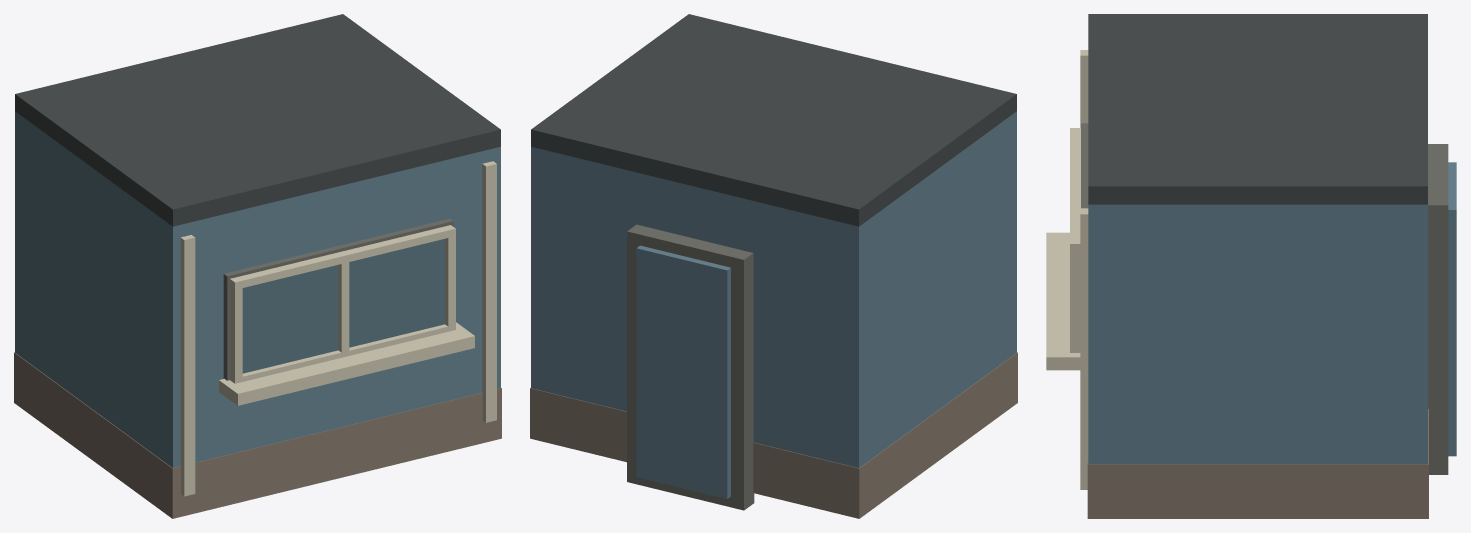
File: kiosk_blue.glb
3 renders of one model, left to right at view 1: azimuth 30°, elevation 25°; view 2: azimuth 150°, elevation 25°; view 3: azimuth 270°, elevation 25°, orthographic. The views are drawn at different scales.
Visible parts, largest first — view 1: kiosk_blue; view 2: kiosk_blue; view 3: kiosk_blue.
Part boxes in pixels (bbox=[...]): kiosk_blue: bbox=[14, 14, 501, 518]; kiosk_blue: bbox=[530, 14, 1017, 518]; kiosk_blue: bbox=[1046, 14, 1456, 518].
Size of the model in its own units: 3.01 by 2.8 by 3.02.
